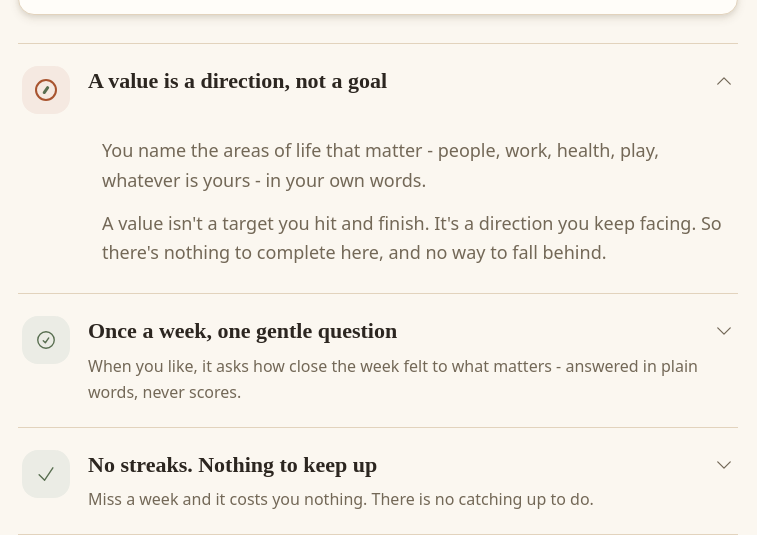
Test case: HelpGuide › expands a topic to reveal its body paragraphs
(page scrolled)
What coordinates should you click on to do the following:
click the button "Once a week, one gentle question"
I would click on:
 (378, 360)
Its box is [18,294,738,427].
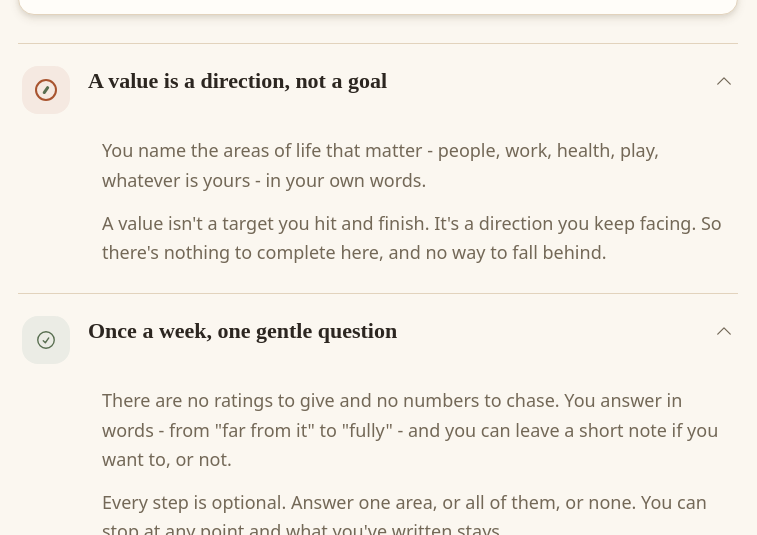
Now the text "There are no ratings to give and no numbers to chase" is shown, box [102,388,718,471]
